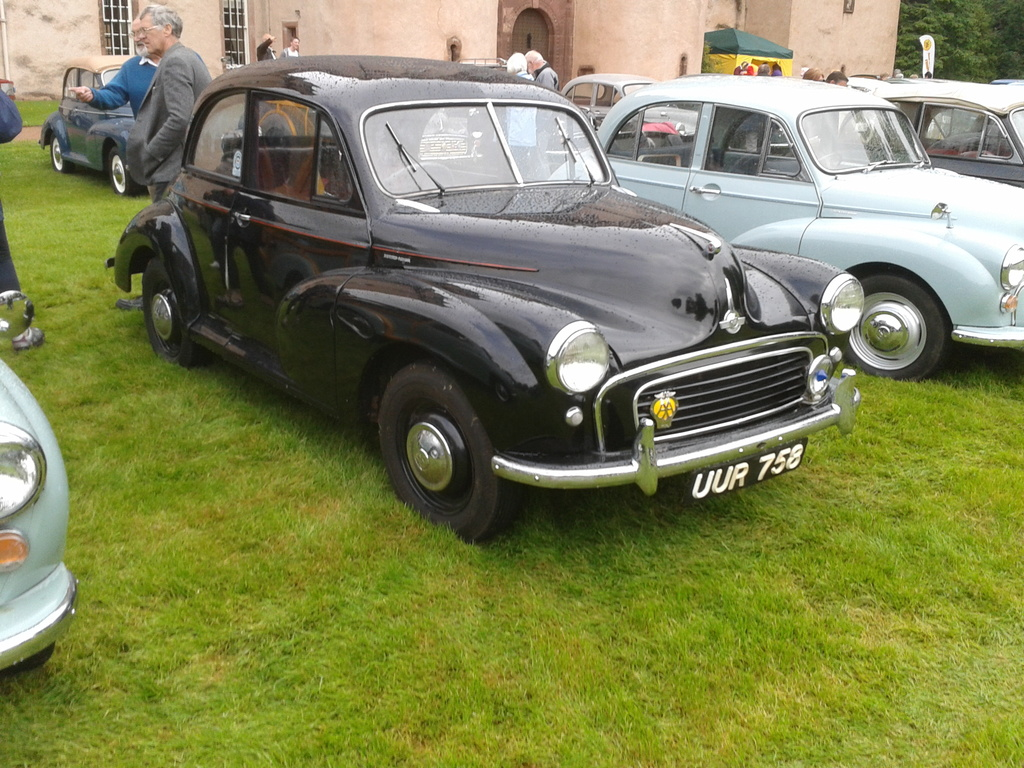mobil: (123, 71, 871, 586)
